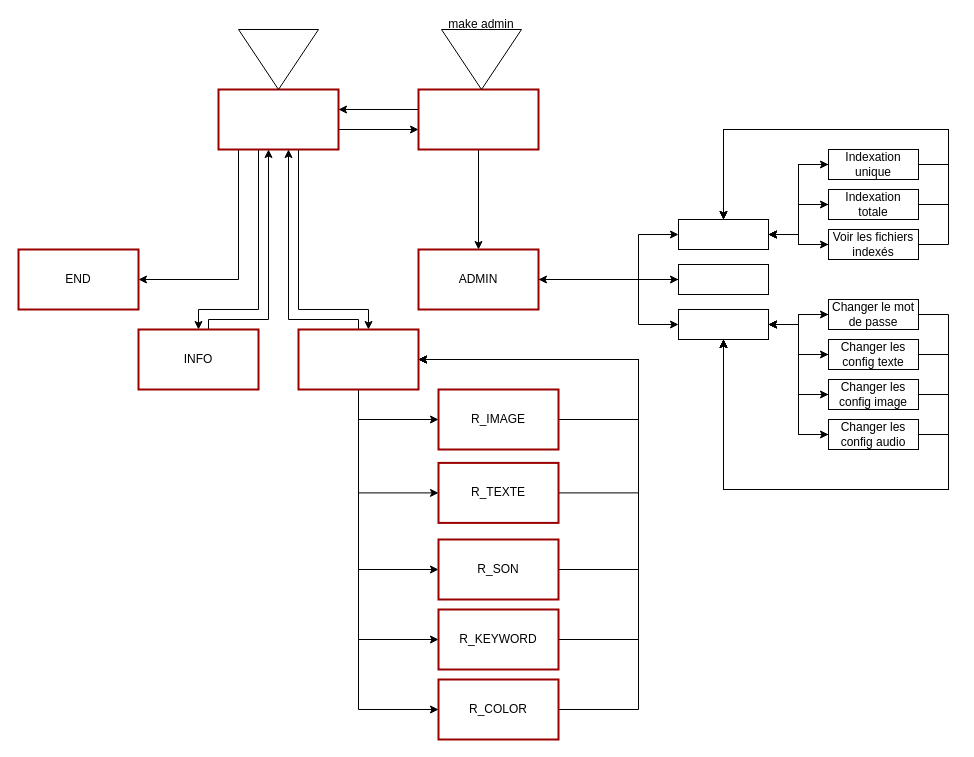
The diagram is 974 pixels wide and 757 high, and some of its shapes have lost their labels. Here are the shapes that lost their labels. From the top down, the centre of each, then its label:
At pixel 278 119: "TITLE".
At pixel 478 119: "CONNECT".
At pixel 723 234: "Lancer l'indexation".
At pixel 723 279: "Visualiser un descripteur".
At pixel 723 324: "Options".
At pixel 358 359: "RESEARCH".
